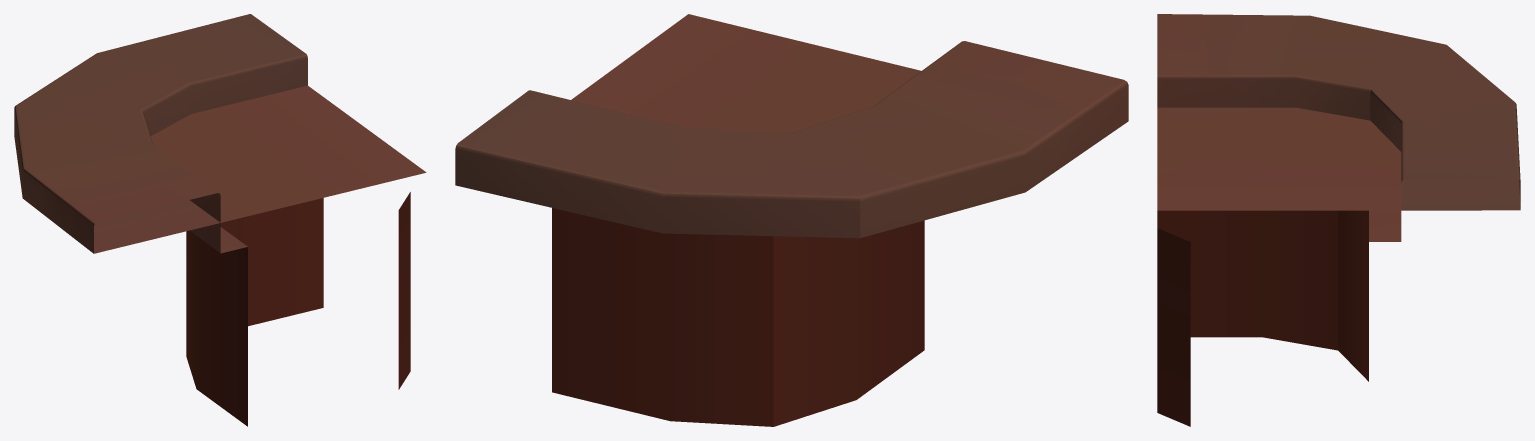
The model's file is BarTable_Part2.fbx.
The picture shows the model from 3 angles, left to right: view 1: azimuth 30°, elevation 25°; view 2: azimuth 150°, elevation 25°; view 3: azimuth 270°, elevation 25°; orthographic projection. The views are drawn at different scales.
Visible parts, largest first — view 1: bartTable_part2, clientTable_part2; view 2: bartTable_part2, clientTable_part2; view 3: bartTable_part2, clientTable_part2.
Part boxes in pixels (box(x1,y1,x2,y2)): bartTable_part2: box(150, 85, 426, 426); clientTable_part2: box(14, 14, 307, 253); bartTable_part2: box(552, 14, 924, 426); clientTable_part2: box(455, 41, 1128, 238); bartTable_part2: box(1157, 107, 1401, 426); clientTable_part2: box(1157, 14, 1520, 210).
Size of the model in its own units: 9.52 by 6.59 by 8.77.
Materials: 1 (1 with a texture image).
